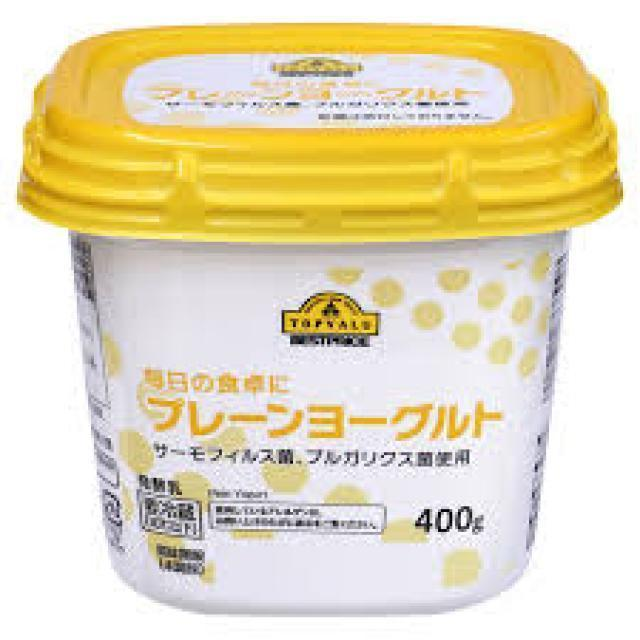Plastic: (21, 20, 608, 621)
